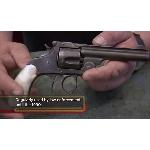Pistol: (6, 35, 150, 91)
